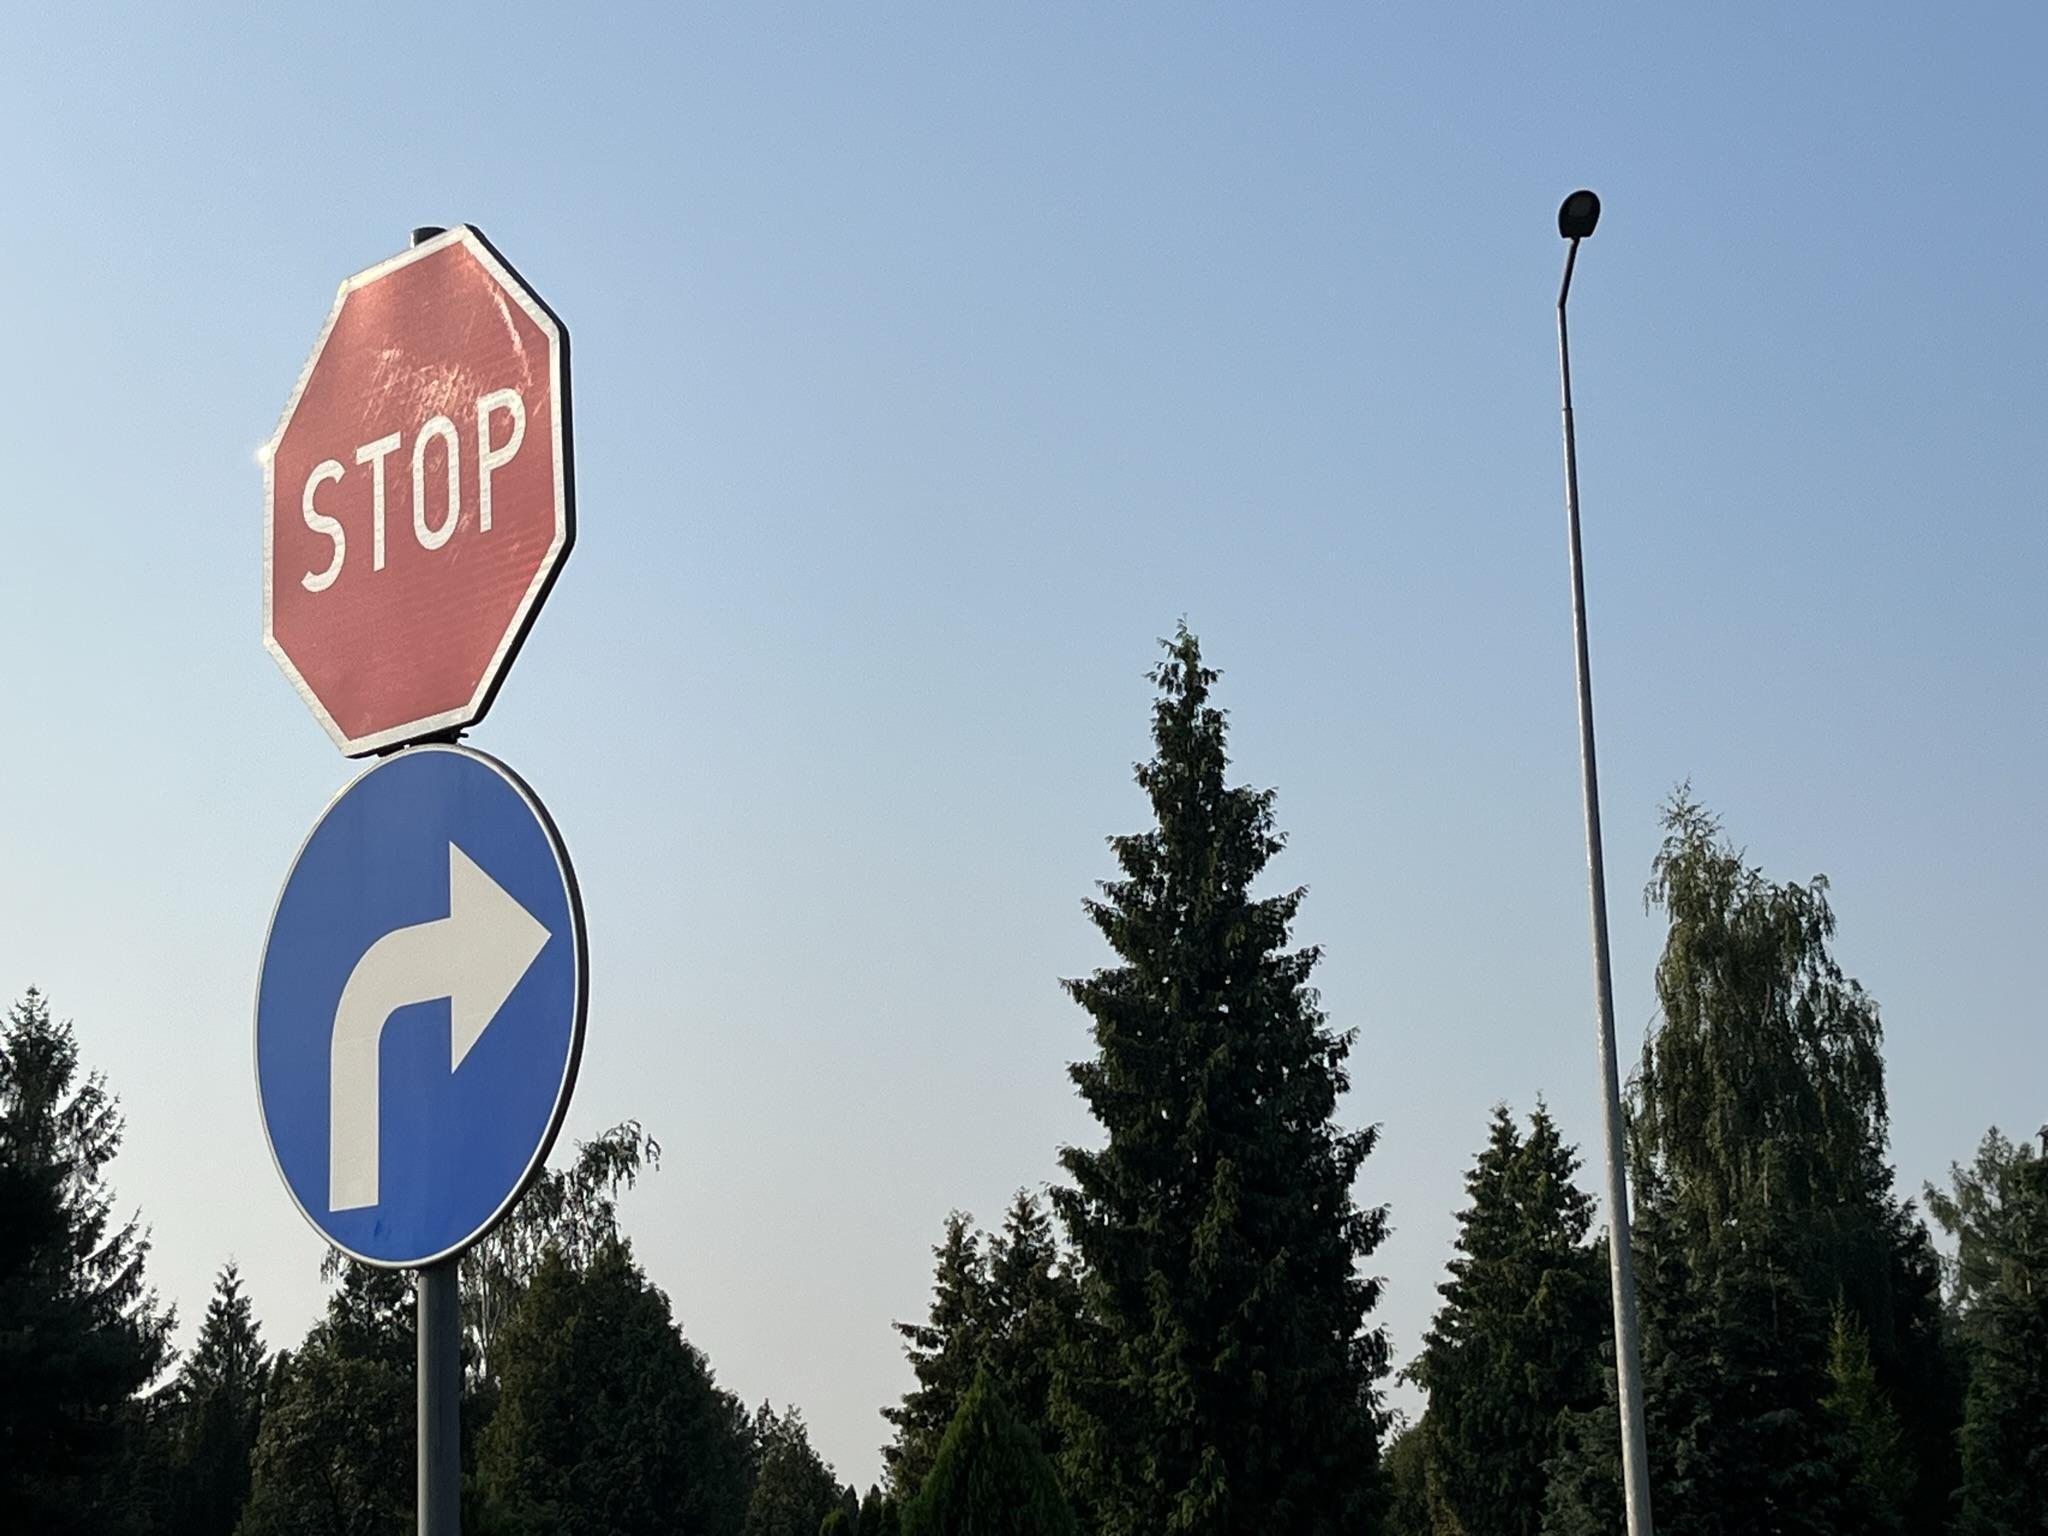mandatory: (252, 739, 592, 1270)
prohibitory: (260, 221, 579, 758)
